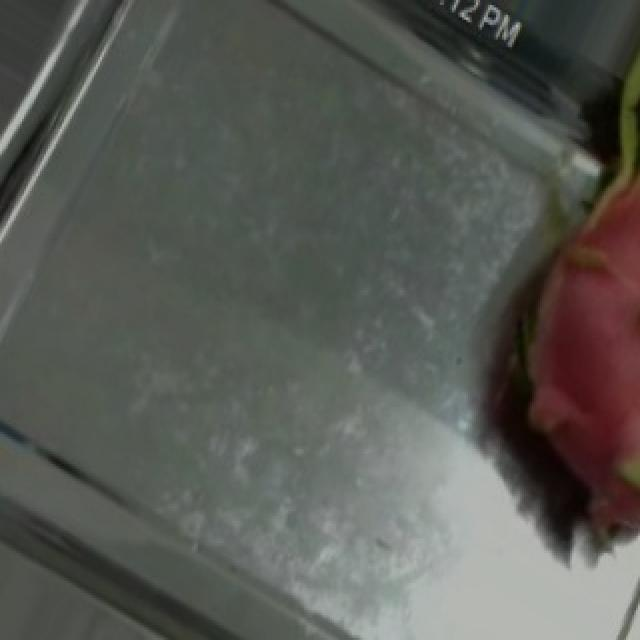fruit: (376, 174, 640, 593)
